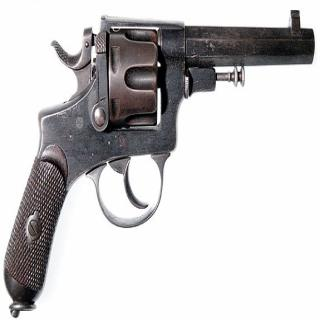gun: (2, 7, 316, 318)
